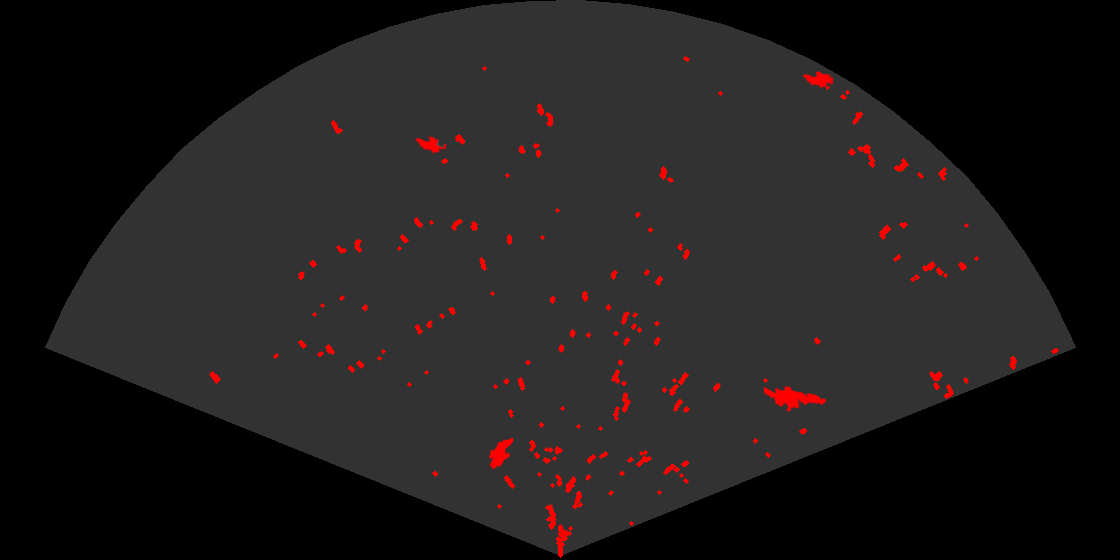AUV: (487, 436, 515, 471), (414, 135, 449, 155), (801, 70, 835, 90)
frogman: (764, 384, 828, 413)
